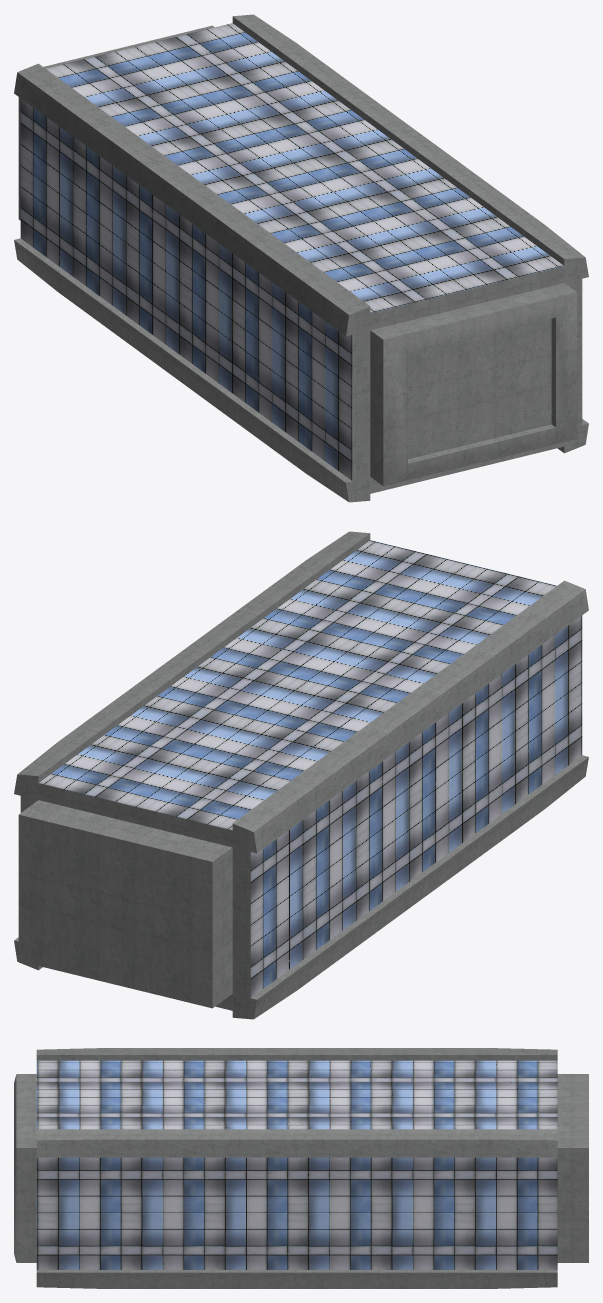
Rendered from skyscraper_windowD_04.obj.
3 views of the same model, one above another, from view 1: azimuth 30°, elevation 25°; view 2: azimuth 150°, elevation 25°; view 3: azimuth 270°, elevation 25° (orthographic). The views are drawn at different scales.
Visible parts, largest first — view 1: Object54; view 2: Object54; view 3: Object54.
Boxes of the visible parts, x1,y1,x2,y2 form: Object54: (14,14,588,502); Object54: (14,531,588,1019); Object54: (14,1048,588,1288).
Bounding box in the file's own units: 42.29 × 32.29 × 110.
2 materials, 2 textured.
